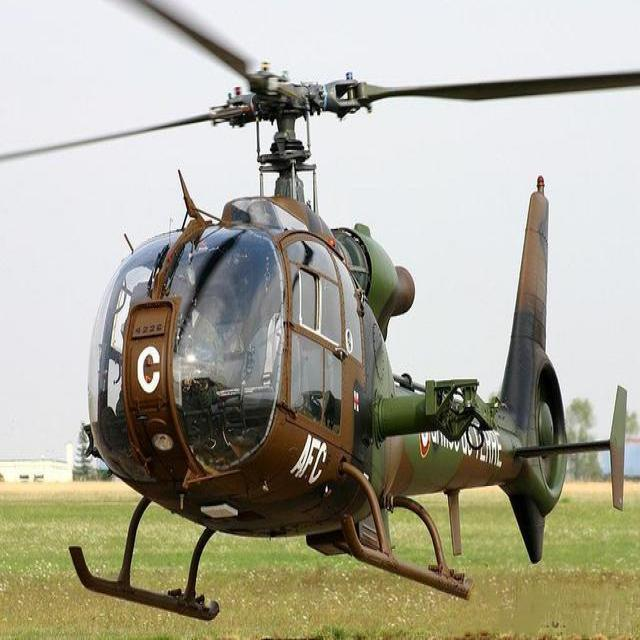MIL_HELO: (4, 0, 640, 618)
